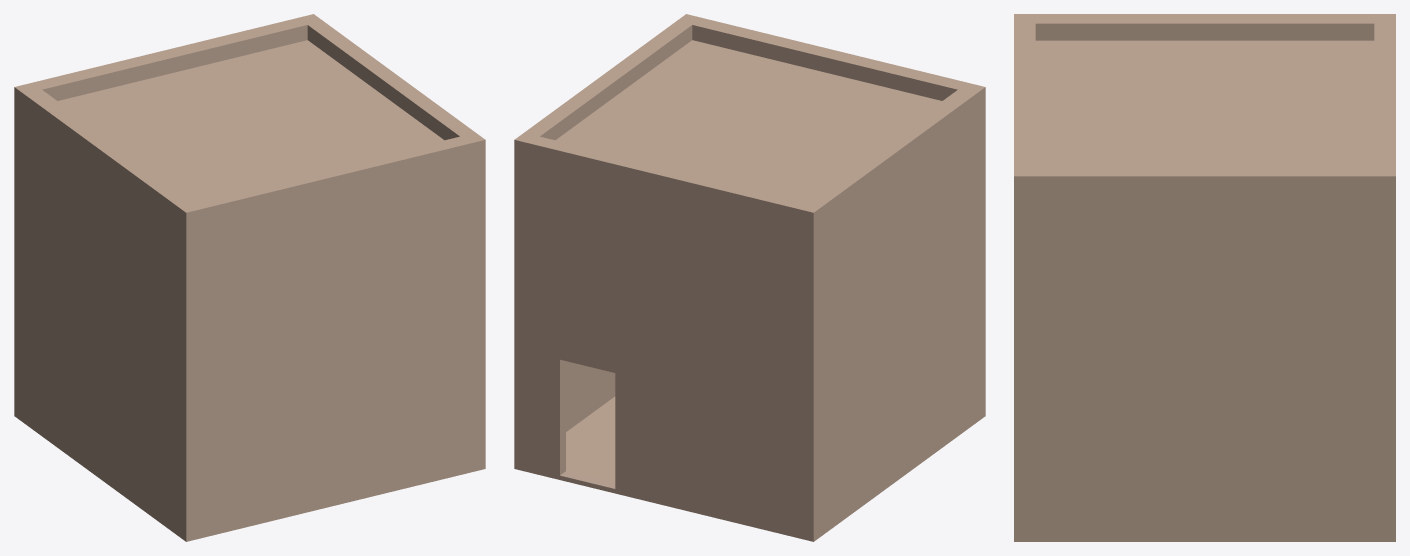
Rendered from OpenClosedTypeBuilding.fbx.
The picture shows the model from 3 angles, left to right: view 1: azimuth 30°, elevation 25°; view 2: azimuth 150°, elevation 25°; view 3: azimuth 270°, elevation 25°; orthographic projection. The views are drawn at different scales.
Visible parts, largest first — view 1: OpenClosedTypeBuilding_Collider; view 2: OpenClosedTypeBuilding_Collider; view 3: OpenClosedTypeBuilding_Collider.
Boxes of the visible parts, x1,y1,x2,y2 form: OpenClosedTypeBuilding_Collider: [14, 14, 485, 541]; OpenClosedTypeBuilding_Collider: [514, 14, 985, 541]; OpenClosedTypeBuilding_Collider: [1014, 14, 1395, 541].
Bounding box in the file's own units: 1092 × 1148 × 1086.
1 material, 1 textured.
